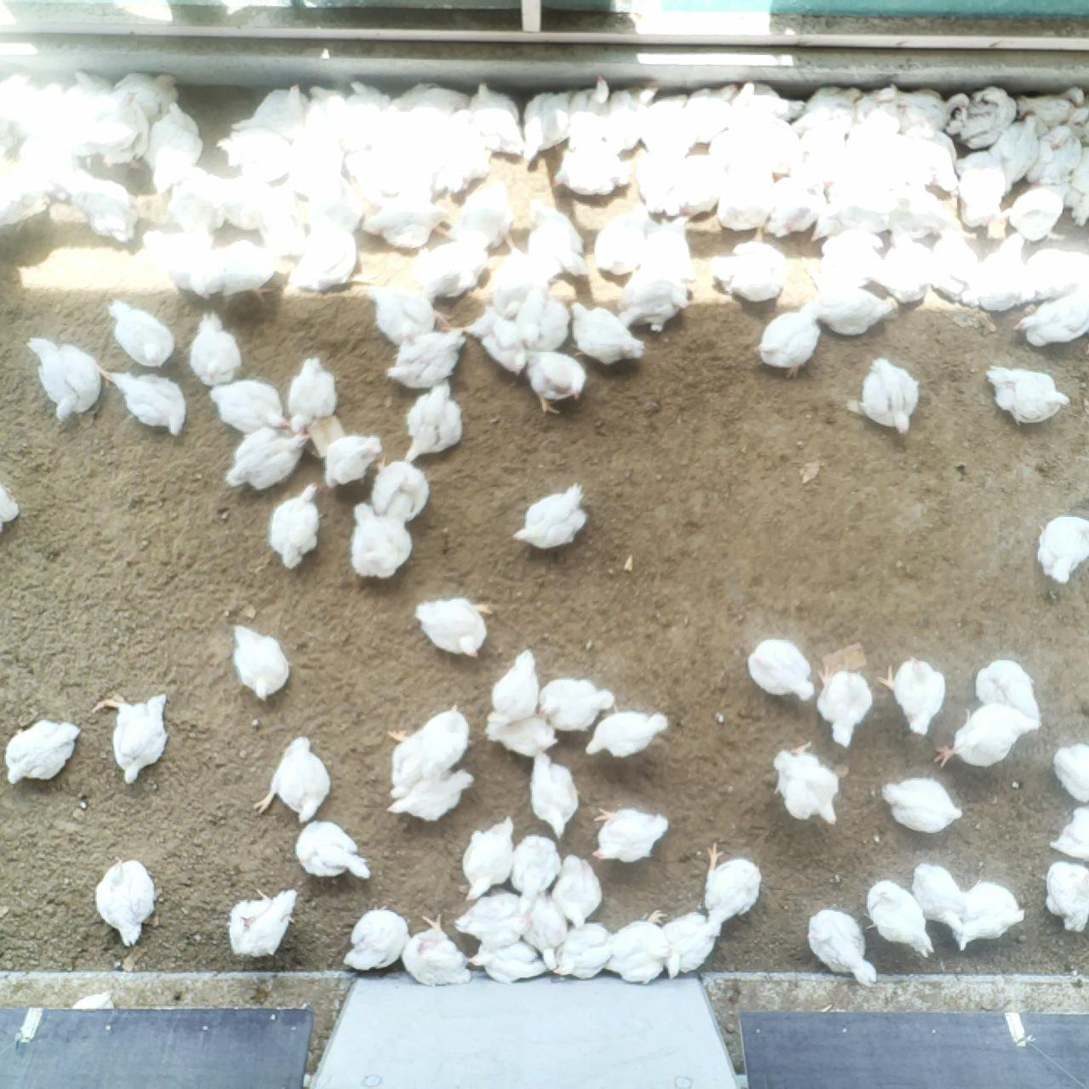chicken: (284, 204, 381, 296), (88, 690, 172, 787), (251, 733, 334, 825), (932, 703, 1043, 770), (24, 333, 104, 425), (96, 363, 191, 440), (802, 260, 897, 336), (220, 425, 315, 499), (91, 852, 161, 952), (769, 738, 845, 829), (696, 840, 764, 938), (876, 653, 951, 740), (861, 876, 937, 961), (433, 172, 519, 247), (190, 238, 282, 308), (65, 88, 148, 165), (952, 876, 1031, 956), (805, 906, 880, 989), (221, 883, 301, 960), (358, 281, 453, 345), (850, 356, 924, 438), (143, 99, 205, 196), (3, 715, 82, 791), (512, 480, 594, 553), (348, 497, 416, 585), (753, 301, 825, 382), (361, 184, 449, 250), (229, 621, 297, 706), (616, 266, 695, 338), (411, 698, 481, 779), (294, 819, 377, 887), (402, 910, 475, 987), (265, 481, 326, 573), (713, 234, 793, 304), (400, 376, 465, 462), (103, 295, 177, 370), (342, 898, 412, 976), (416, 594, 497, 661), (523, 195, 589, 277), (590, 803, 673, 868), (528, 749, 585, 843), (428, 110, 494, 191), (985, 367, 1072, 428), (809, 177, 889, 243), (603, 905, 668, 986), (464, 76, 529, 157), (816, 662, 877, 748), (458, 816, 519, 902), (386, 768, 479, 824), (714, 155, 778, 236), (407, 231, 481, 301), (883, 775, 966, 837), (945, 84, 1018, 154), (67, 175, 140, 245), (386, 329, 467, 392), (971, 231, 1031, 315), (535, 675, 617, 736), (583, 707, 672, 763), (972, 656, 1045, 724), (467, 303, 535, 376), (205, 378, 292, 435), (286, 125, 352, 200), (232, 84, 314, 144), (568, 301, 644, 365), (485, 243, 549, 319), (592, 199, 652, 279), (449, 889, 533, 946), (908, 858, 967, 938), (367, 454, 435, 523), (988, 108, 1042, 194), (18, 122, 76, 202), (522, 349, 590, 417), (745, 636, 814, 703), (549, 143, 633, 198), (1012, 294, 1089, 353), (951, 149, 1007, 230), (187, 307, 242, 389), (286, 353, 341, 435), (161, 167, 227, 235), (843, 125, 909, 193), (1004, 180, 1070, 247), (763, 164, 827, 233), (659, 909, 720, 981), (467, 937, 553, 988), (521, 88, 575, 169), (486, 648, 541, 726), (348, 131, 427, 185), (888, 182, 961, 240), (549, 919, 616, 982), (549, 853, 603, 931), (927, 231, 986, 302), (300, 171, 364, 236), (790, 85, 867, 139), (882, 227, 936, 303), (99, 67, 182, 116), (639, 91, 697, 161), (1035, 512, 1089, 587), (902, 123, 960, 192), (255, 181, 309, 255), (565, 76, 616, 153), (816, 229, 884, 286), (638, 213, 698, 277), (147, 230, 206, 295), (673, 153, 730, 220), (733, 115, 801, 171), (216, 127, 292, 177), (204, 172, 270, 229), (516, 284, 575, 347), (321, 433, 386, 490), (521, 889, 567, 969), (891, 88, 969, 135), (1041, 858, 1089, 934), (787, 129, 844, 193), (685, 80, 739, 147), (6, 80, 68, 138), (0, 164, 53, 230), (1026, 124, 1083, 185), (610, 84, 662, 150), (1029, 248, 1089, 304), (632, 147, 680, 216), (482, 717, 560, 758), (385, 726, 431, 791), (1016, 83, 1085, 126), (348, 79, 391, 148), (308, 83, 355, 146), (1044, 805, 1089, 865), (1050, 740, 1089, 806), (855, 83, 899, 138), (734, 80, 794, 118), (190, 252, 220, 257)
